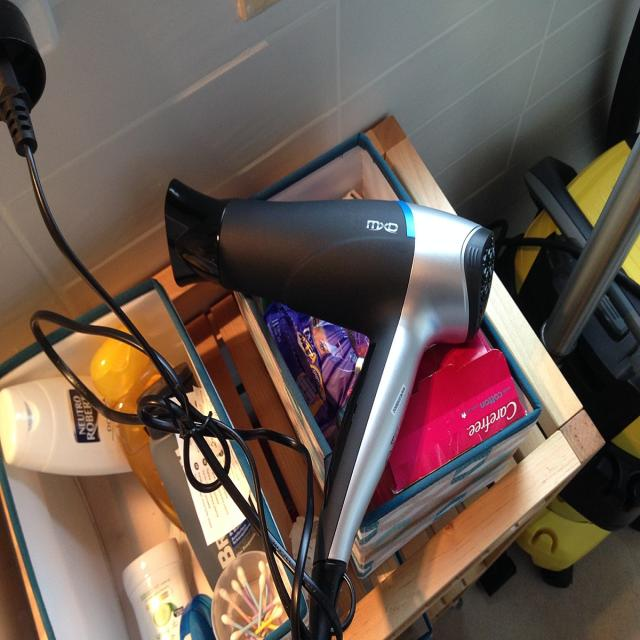dryer: (163, 174, 497, 640)
